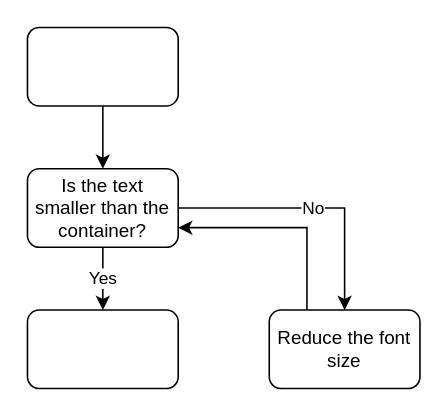
Some shapes in this 447 by 416 pixel diagram are drawn without their labels. The shapes that lost their labels are listed below. From the top down, each one's centre as x and y in pixels, then its label:
the point at 102,66: Put text into container/html doc
the point at 102,349: Leave the text as it is
